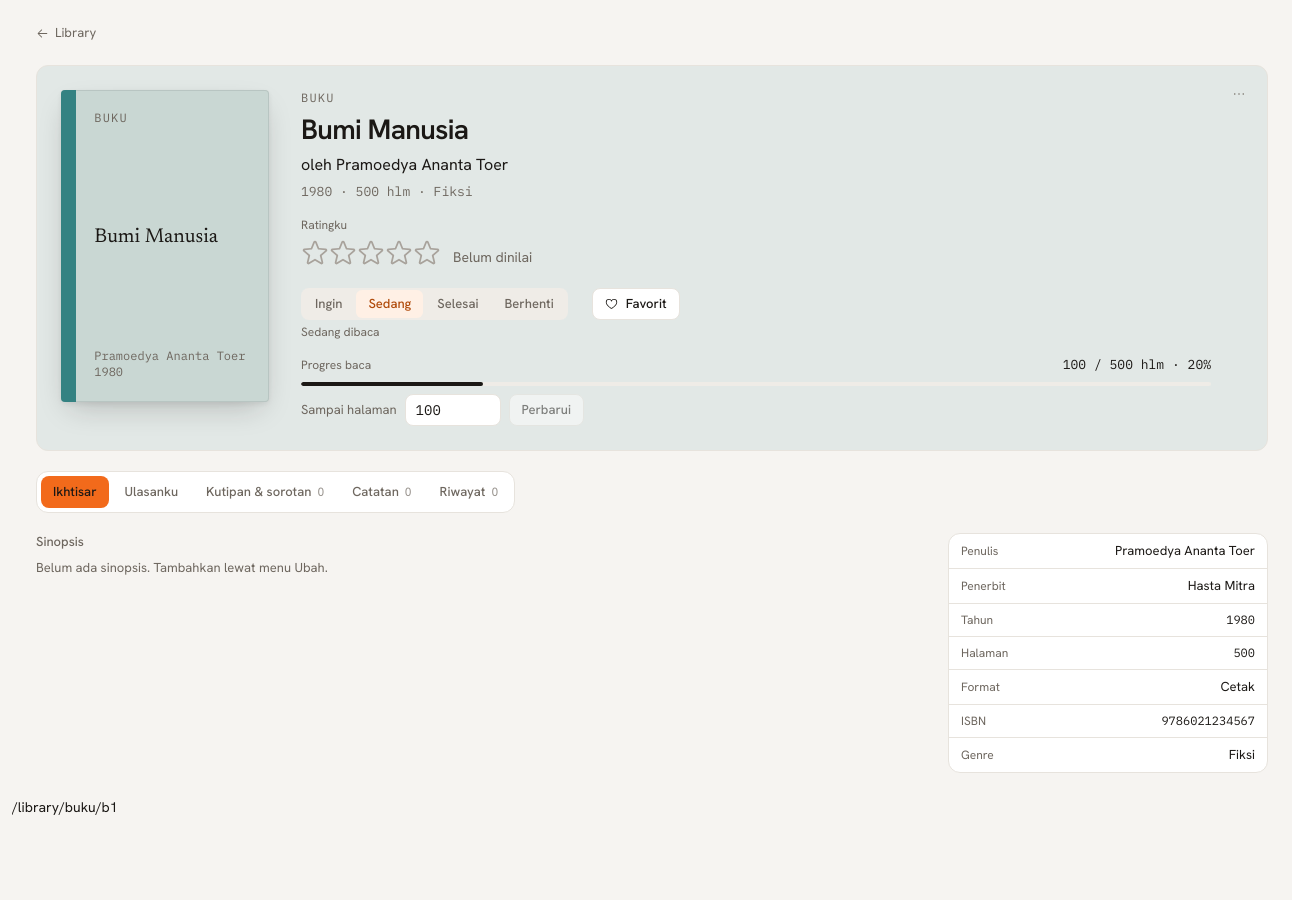
reading progress › shows how far in, and moves it
Expected: the text "100 / 500 hlm · 20%" is shown, [1063,356,1211,374]
Replace the text in the field labelled "Sampai halaman" with "250" at (453, 410), box [405,394,501,426]
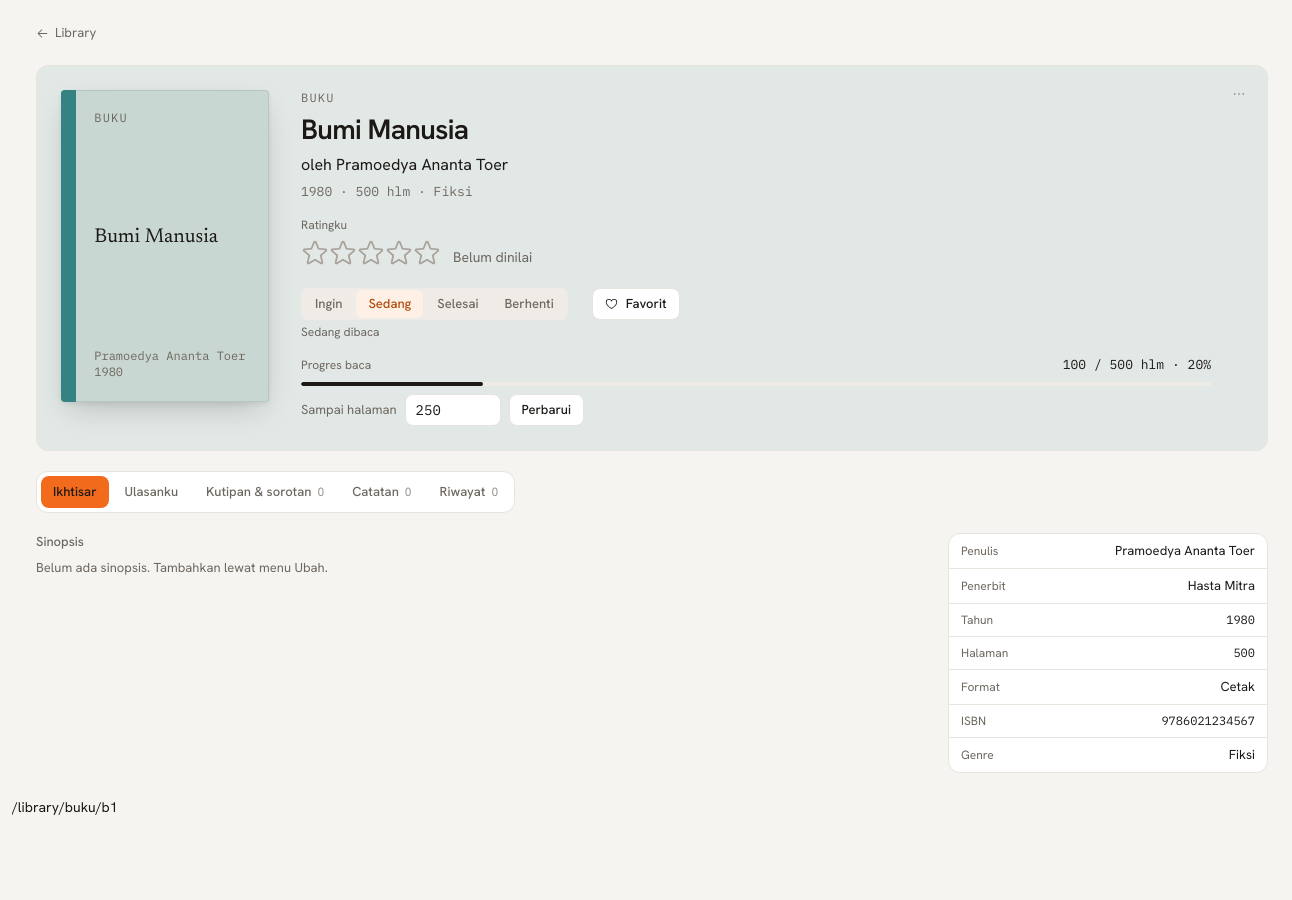
Click the button "Perbarui" at (546, 410), box [509,394,584,426]
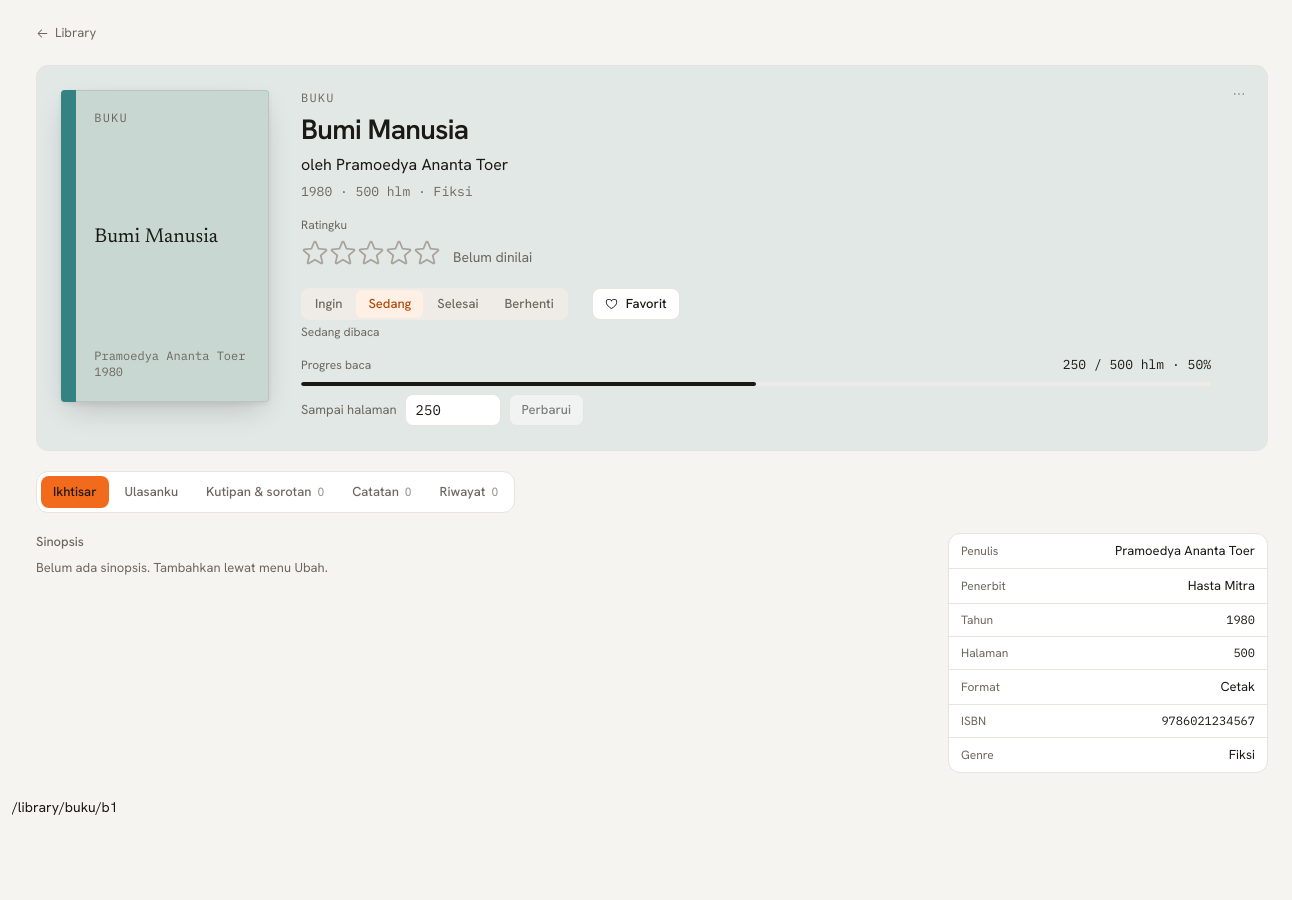
Expected: the text "250 / 500 hlm · 50%" is shown, [1063,356,1211,374]
